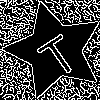T: (30, 26, 83, 81)
